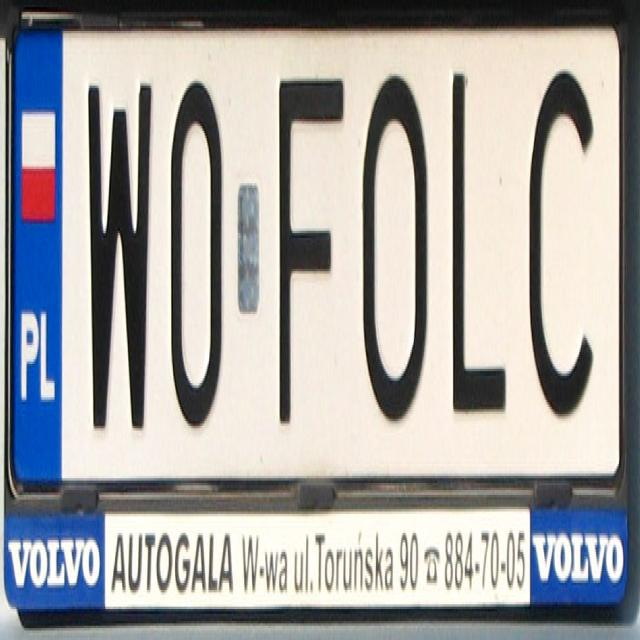pl_license_plate: (9, 19, 622, 478)
